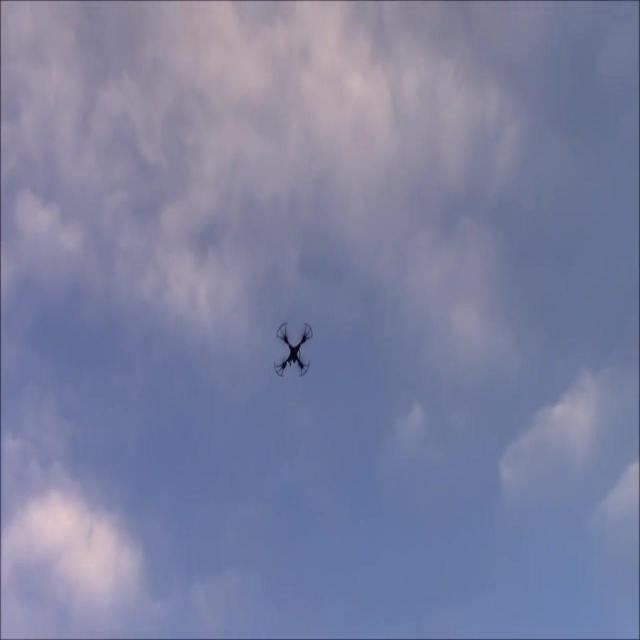UAV: (274, 322, 312, 377)
